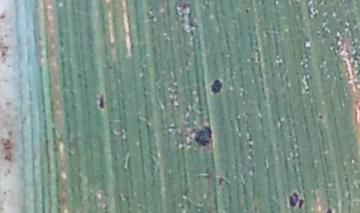tarspot: (193, 125, 213, 147), (209, 78, 224, 95), (288, 191, 299, 208), (97, 93, 106, 110), (297, 198, 305, 210), (217, 176, 225, 185), (324, 206, 333, 213), (244, 6, 250, 14), (317, 113, 323, 120)
